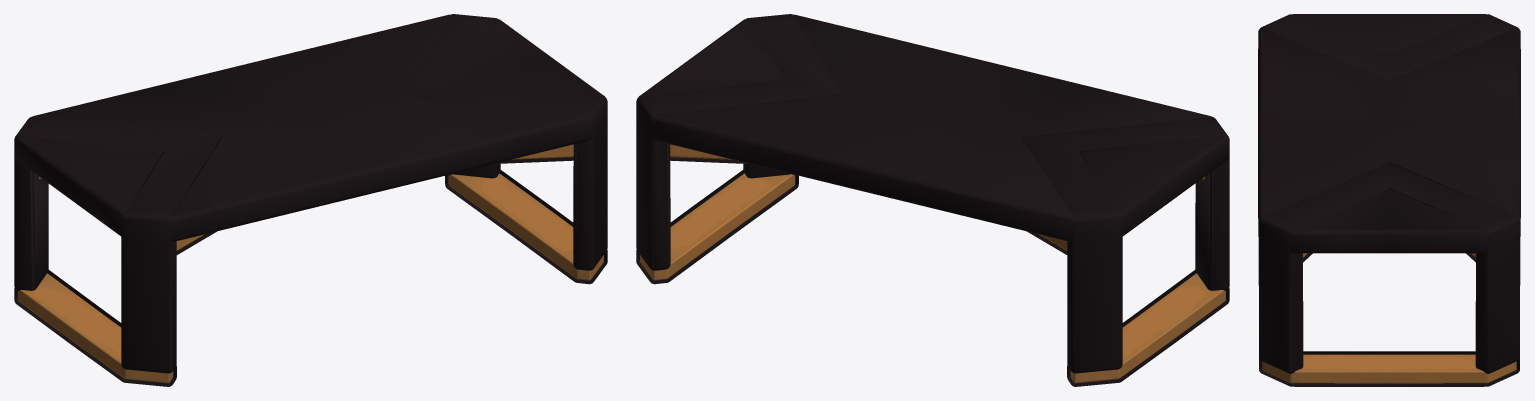
Rendered from SM_Int_CoffeeTableB.fbx.
3 renders of one model, left to right at view 1: azimuth 30°, elevation 25°; view 2: azimuth 150°, elevation 25°; view 3: azimuth 270°, elevation 25°, orthographic. The views are drawn at different scales.
Visible parts, largest first — view 1: SM_Int_CoffeeTableB; view 2: SM_Int_CoffeeTableB; view 3: SM_Int_CoffeeTableB.
Boxes of the visible parts, <box> form: SM_Int_CoffeeTableB: <box>14,14,607,386</box>; SM_Int_CoffeeTableB: <box>636,14,1229,386</box>; SM_Int_CoffeeTableB: <box>1258,14,1520,386</box>.
Size of what is drawn, in the model's own units: 1.22 by 0.406 by 0.6159.
